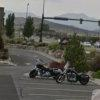Motorcycle: (18, 56, 91, 90)
